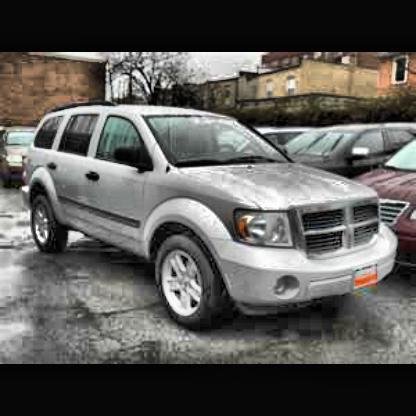Dodge Durango SUV 2007: (26, 105, 397, 331)
